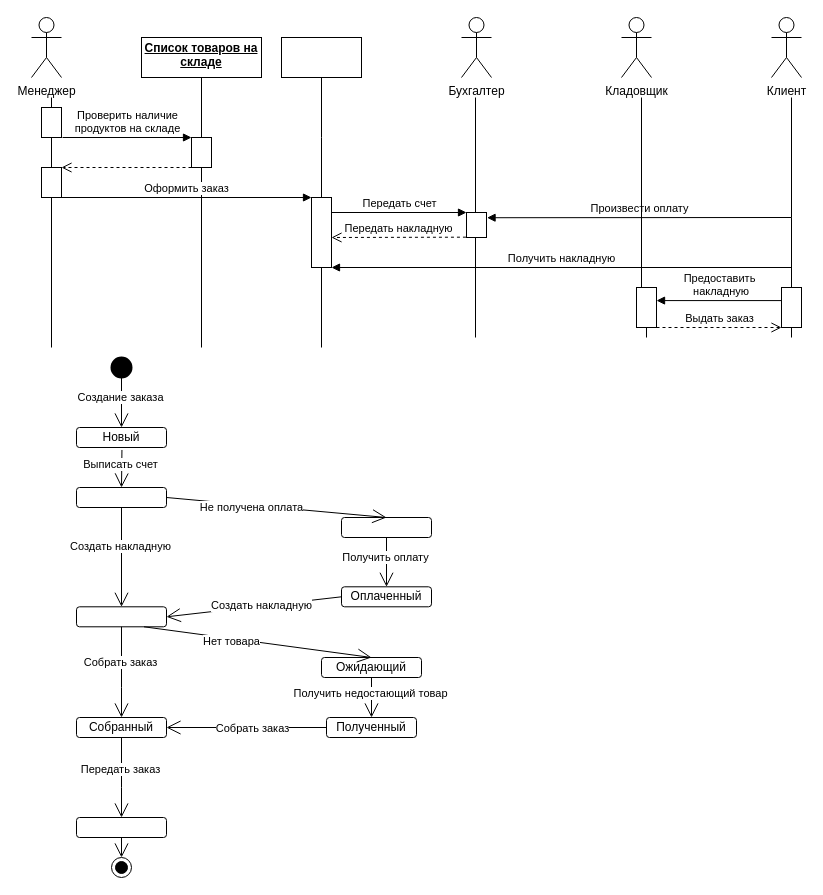
Image size: 823x895. Some labels were removed from this diagram. The shapes that lost their labels are listed below. From the top down, each one's centre as x and y in pixels, then its label:
the point at 321,57: БД Заказов
the point at 121,497: Созданный
the point at 386,527: Неоплаченный
the point at 121,616: Напечатанная
the point at 121,827: Переданный
